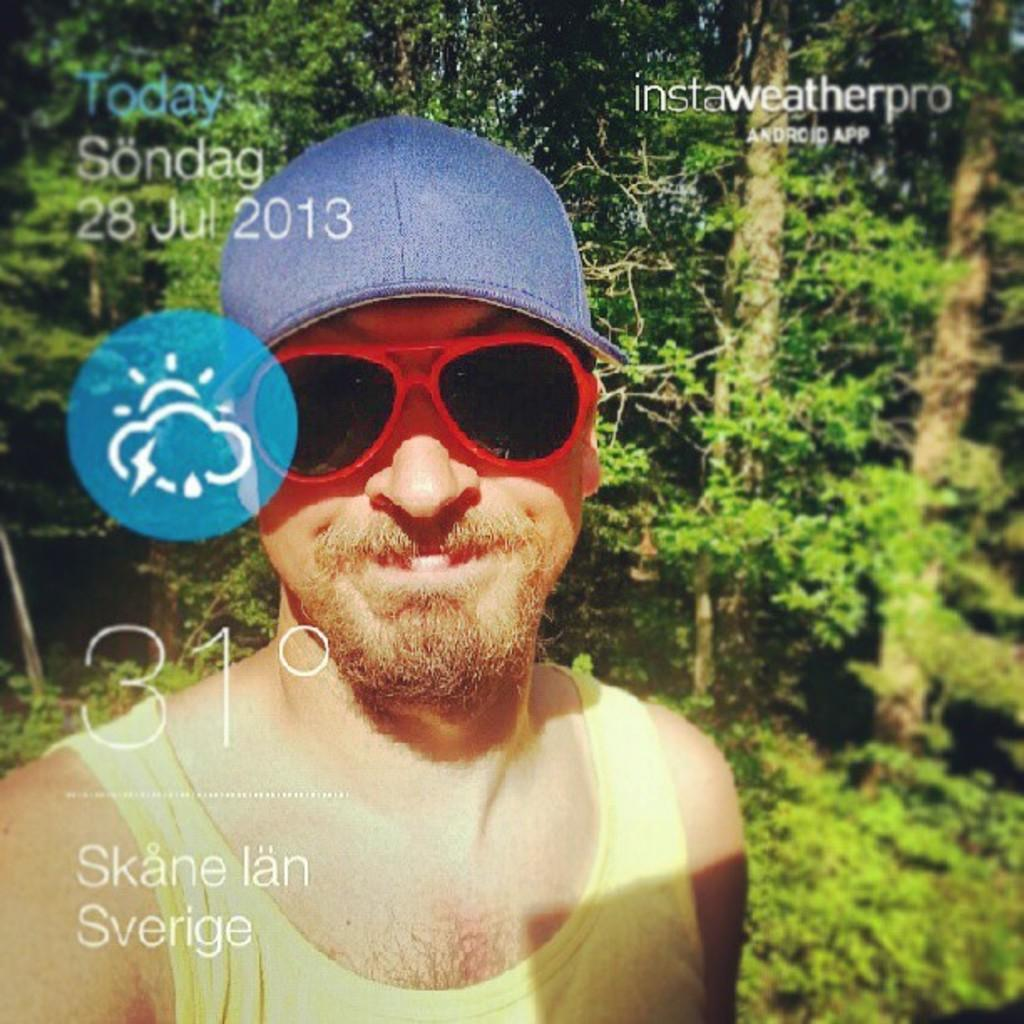Hat: (210, 115, 628, 406)
